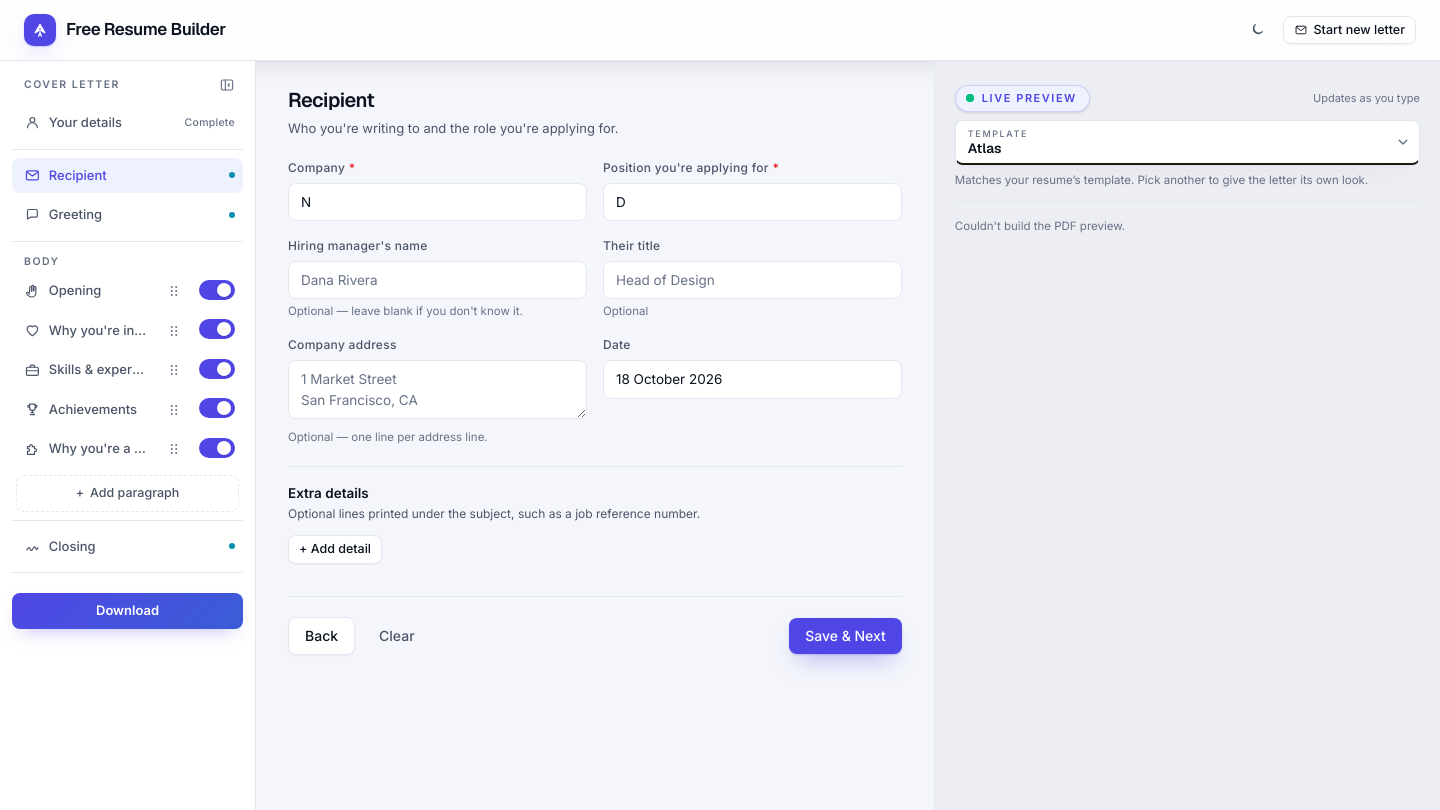
CoverLetterShell › Skip switches the paragraph off, saves, and moves to the next one
Expected: the heading "Recipient" is shown, [288, 87, 374, 113]
Click the button "Opening" at (86, 291), box [12, 273, 159, 309]
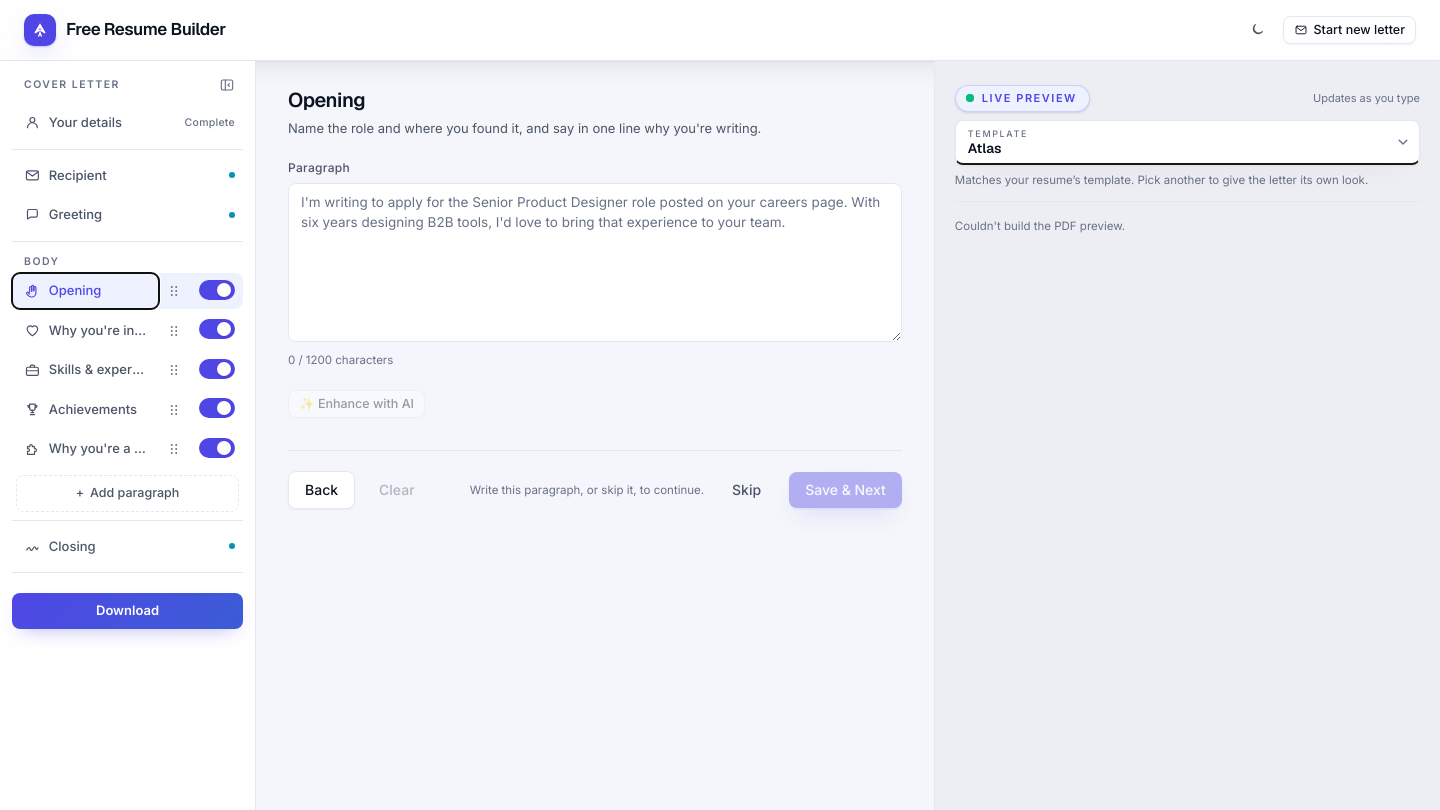
Click the button "Skip" at (747, 490), box [716, 472, 777, 508]
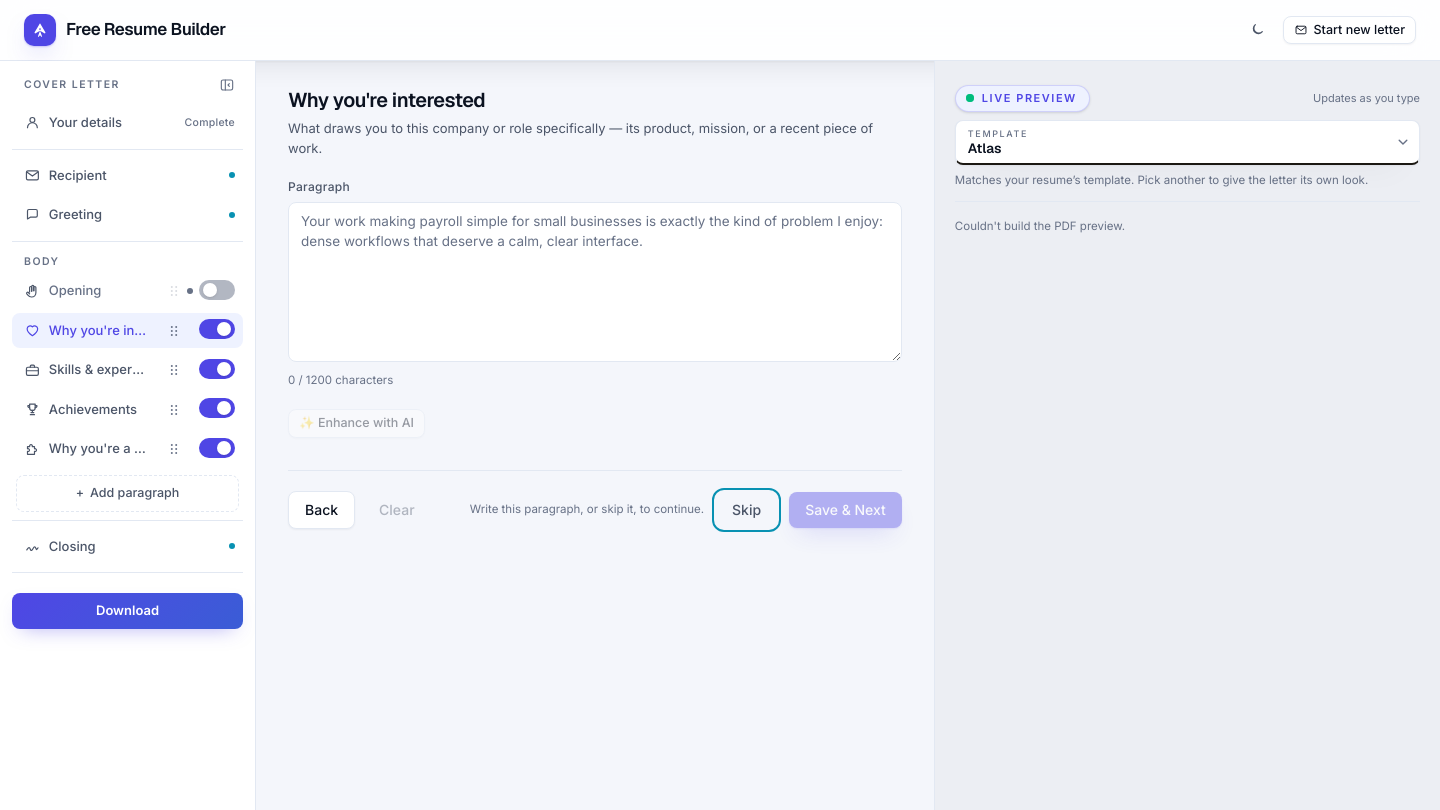
Result: the heading "Why you're interested" is shown at [288, 87, 485, 113]
// Back steps over the skipped paragraph.
Click the button "Back" at (322, 510), box [288, 491, 355, 529]
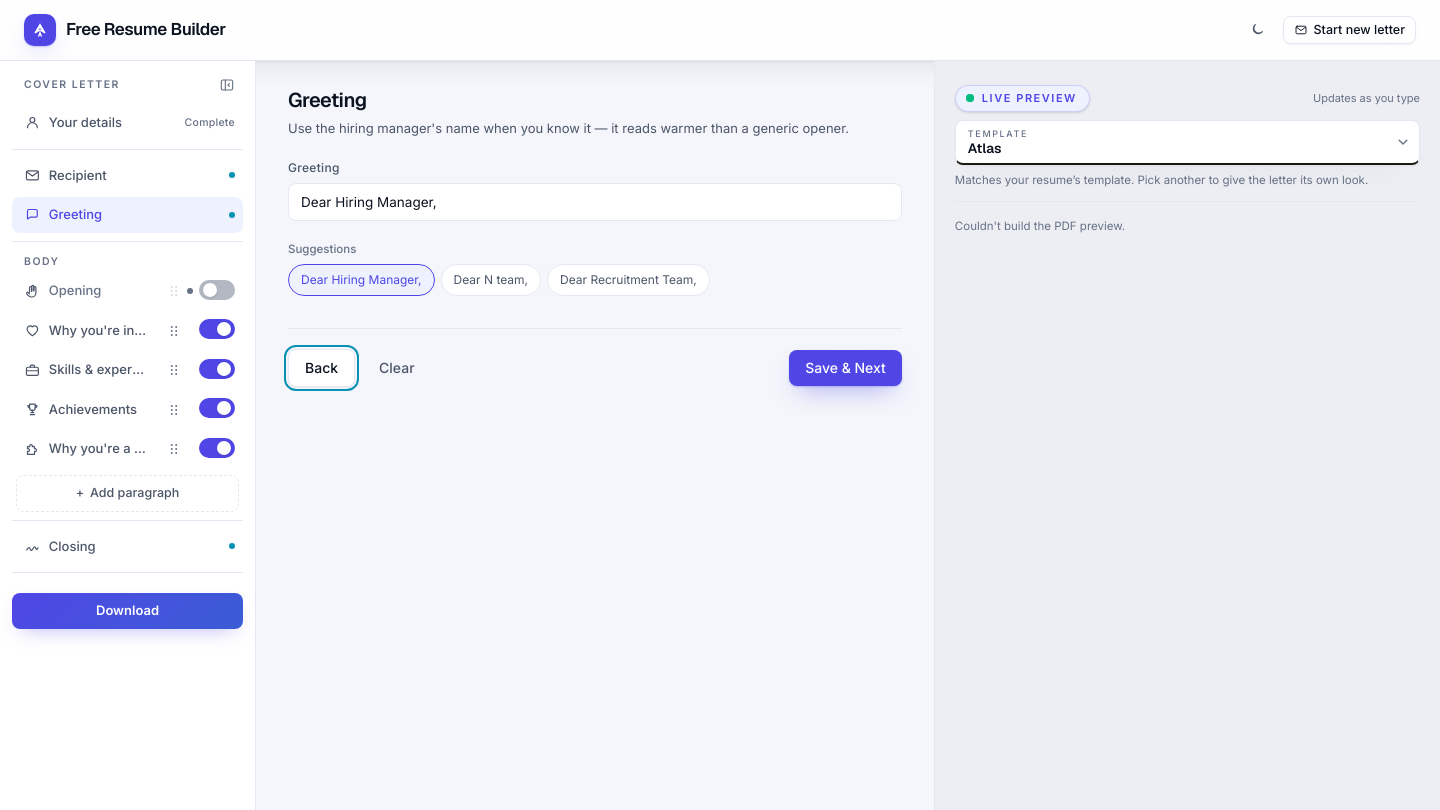
Result: the heading "Greeting" is shown at [288, 87, 367, 113]
